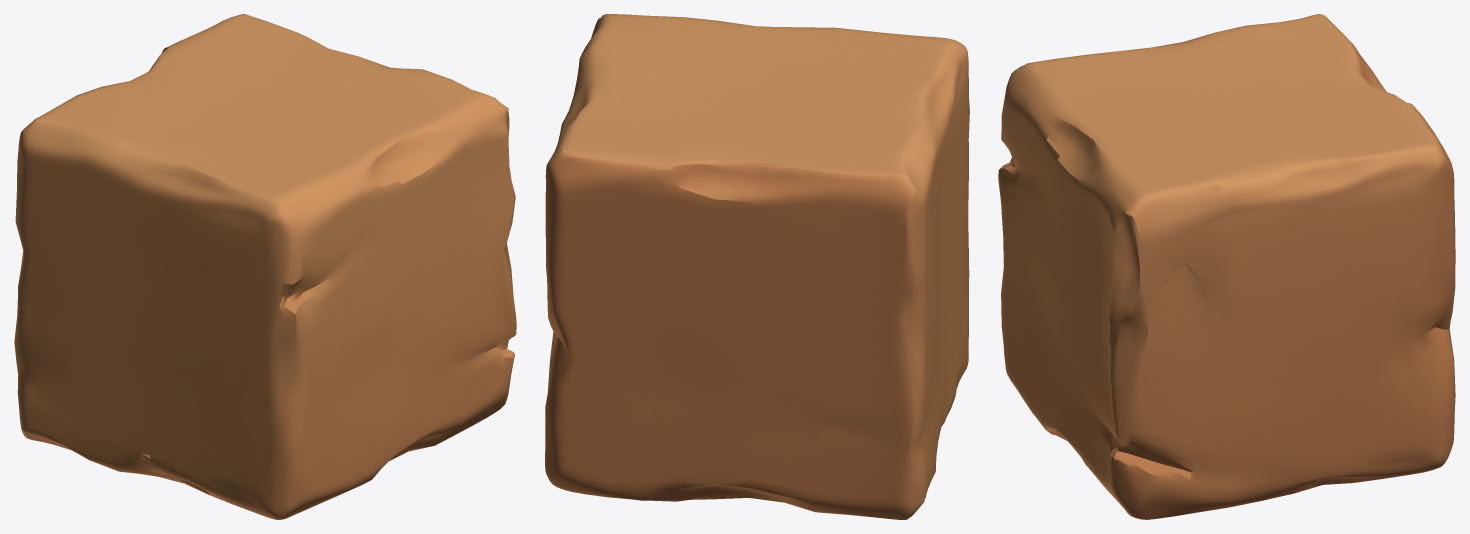
The model's file is brick_cinder_sandstone.glb.
3 renders of one model, left to right at view 1: azimuth 30°, elevation 25°; view 2: azimuth 150°, elevation 25°; view 3: azimuth 270°, elevation 25°, orthographic. The views are drawn at different scales.
Parts seen in each view (by area): view 1: Mesh_0; view 2: Mesh_0; view 3: Mesh_0.
Boxes of the visible parts, x1,y1,x2,y2 form: Mesh_0: [14, 14, 516, 519]; Mesh_0: [545, 14, 969, 519]; Mesh_0: [998, 14, 1455, 519].
Size of the model in its own units: 1.9 by 1.47 by 1.84.
1 material, 1 textured.
